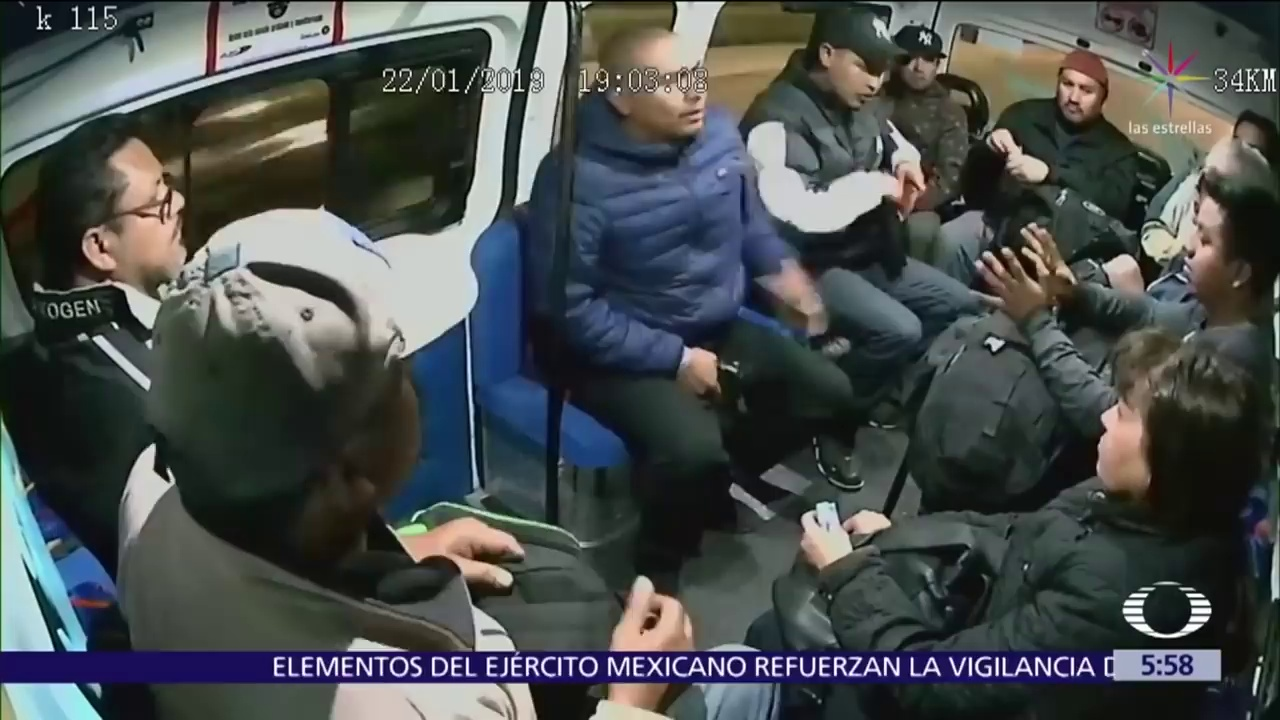pistol: (687, 360, 753, 418)
